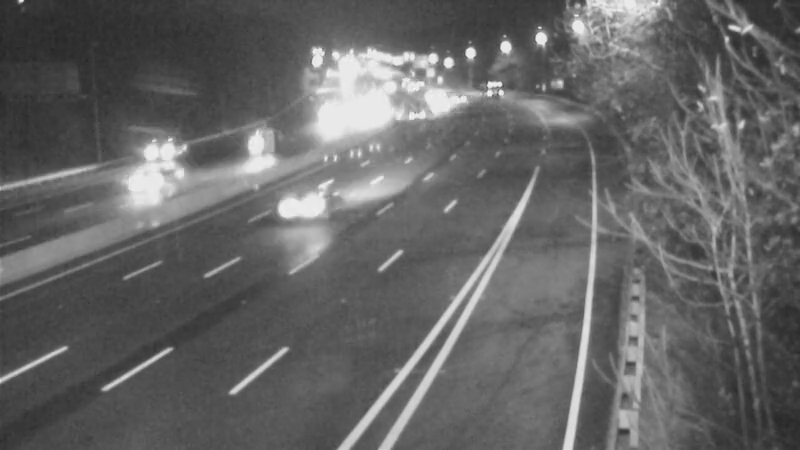vehicle: (273, 160, 353, 240), (113, 113, 193, 193), (106, 140, 186, 220), (467, 63, 517, 113), (409, 72, 459, 122), (433, 73, 483, 123), (410, 79, 460, 129), (392, 87, 442, 137), (234, 119, 284, 169)
